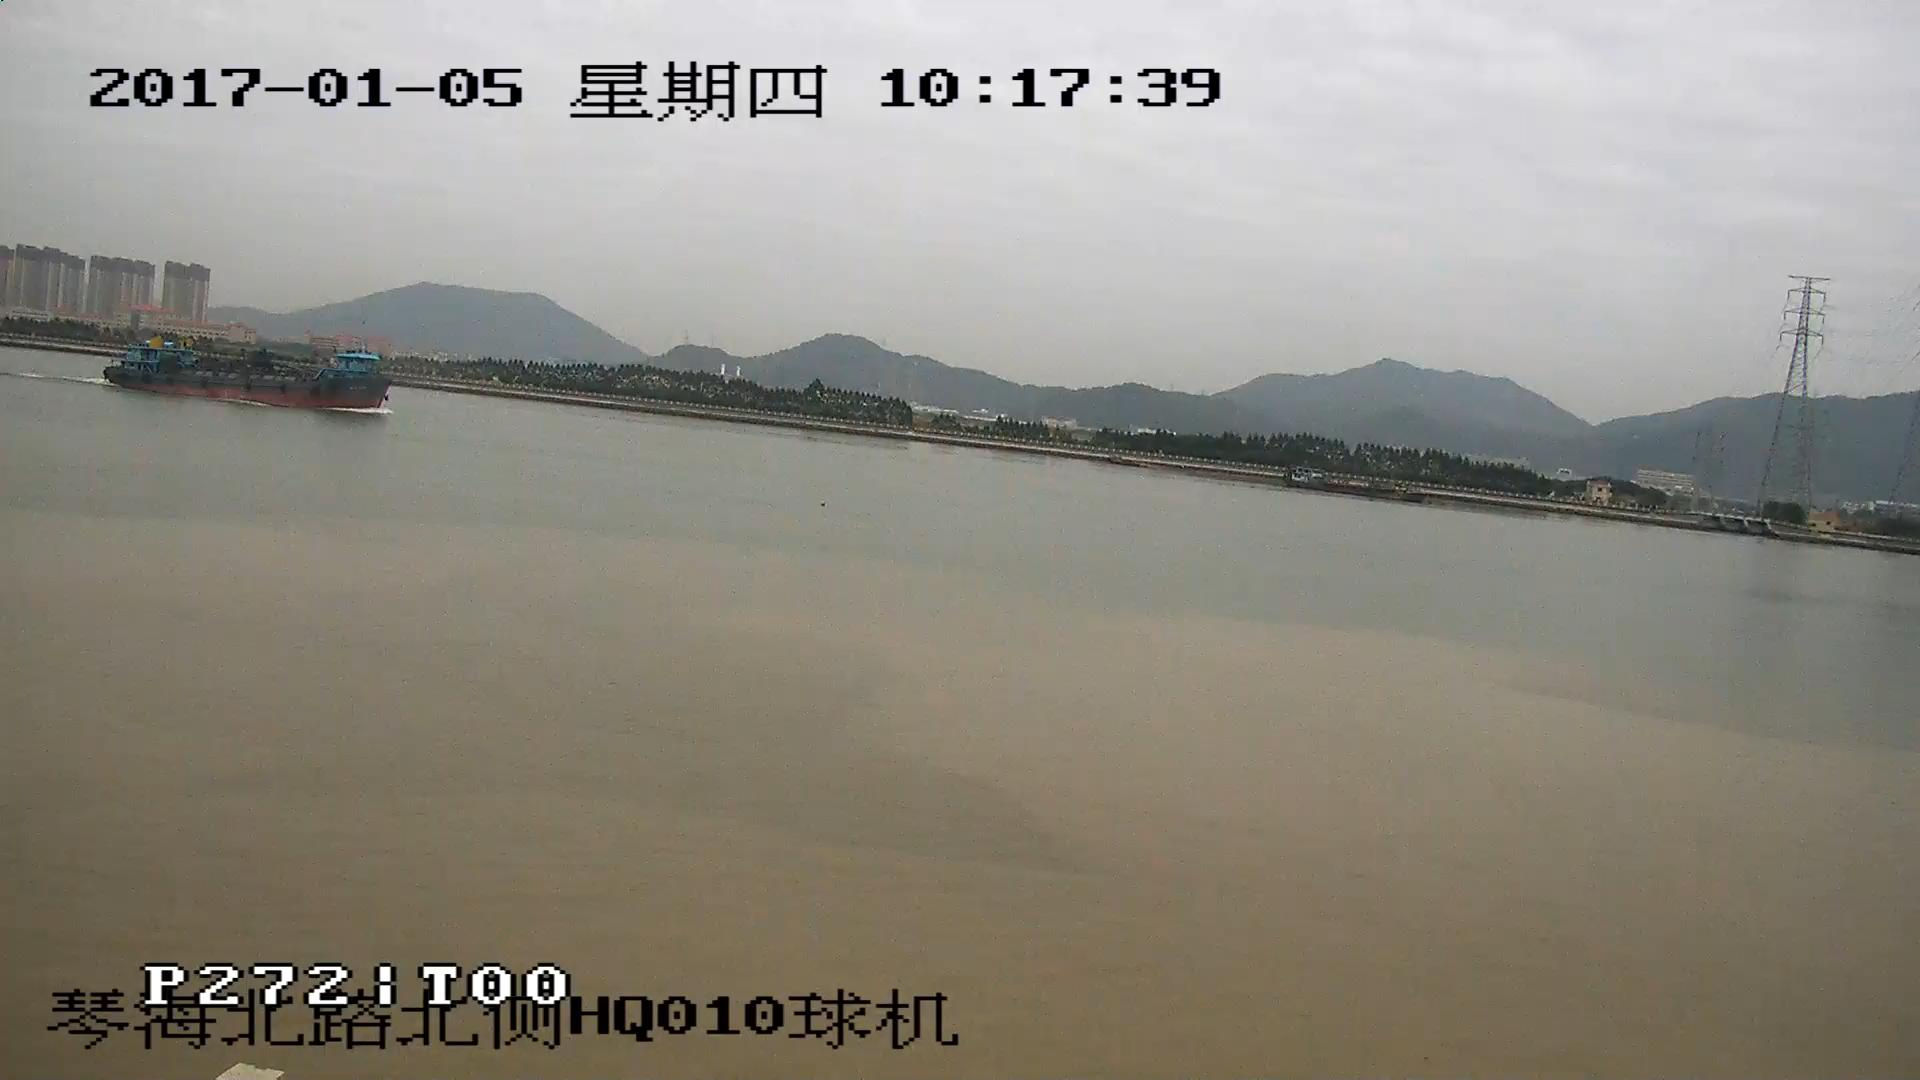bulk cargo carrier: (106, 343, 389, 414)
